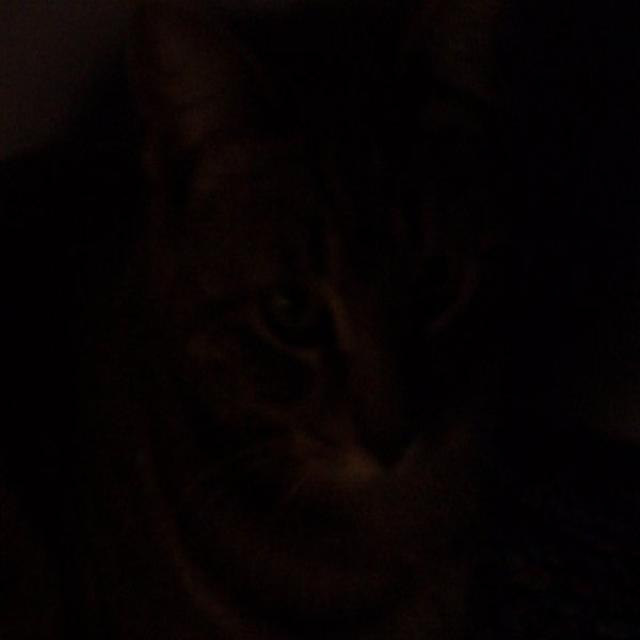Cat: (64, 3, 566, 640)
